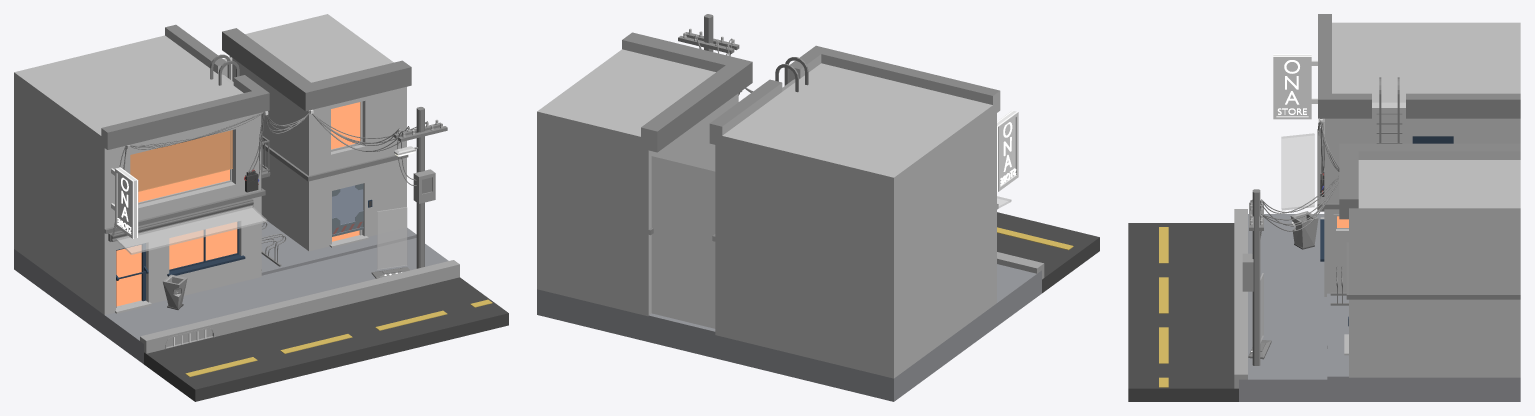
File: alley-v2.glb
The picture shows the model from 3 angles, left to right: view 1: azimuth 30°, elevation 25°; view 2: azimuth 150°, elevation 25°; view 3: azimuth 270°, elevation 25°; orthographic projection. The views are drawn at different scales.
Parts seen in each view (by area): view 1: Shop Top, Floor, Building Top, Shop Bottom, Building, Curb, Cube.020, Cube.040, Cube.012, Cube.025, Cube.037, Storeftront Roof.001 (+5 smaller); view 2: Shop Top, Building Top, Shop Bottom, Floor, Plane, Building, Cube.027, Cube.040, Curb; view 3: Floor, Building Top, Shop Top, Building, Cube.012, Cube.027, Cube.040, Curb, Shop Bottom, Placeholder Lamppost, Cube.031, Cube.035 (+1 smaller).
Part boxes in pixels (x1,y1,x2,y2): Shop Top: (14,24,269,233); Floor: (14,238,508,401); Building Top: (222,14,411,181); Shop Bottom: (14,167,261,314); Building: (261,148,406,251); Curb: (140,260,459,353); Cube.020: (130,130,232,191); Cube.040: (261,217,416,275); Cube.012: (116,206,267,254); Cube.025: (377,207,407,269); Cube.037: (332,183,363,236); Storeftront Roof.001: (108,198,253,241); Shop Top: (709,45,1000,285); Building Top: (537,32,752,235); Shop Bottom: (715,210,996,378); Floor: (537,212,1099,401); Plane: (651,156,715,328); Building: (537,207,651,316); Cube.027: (997,111,1018,191); Cube.040: (537,289,715,334); Curb: (997,252,1044,279); Floor: (1128,214,1520,401); Building Top: (1339,143,1520,299); Shop Top: (1318,14,1520,209); Building: (1344,299,1520,377); Cube.012: (1281,133,1314,210); Cube.027: (1273,55,1311,119); Cube.040: (1327,293,1520,379); Curb: (1234,209,1247,388); Shop Bottom: (1320,209,1348,296); Placeholder Lamppost: (1252,189,1260,365); Cube.031: (1159,227,1168,387); Cube.035: (1290,211,1318,249).
Bounding box in the file's own units: 1600 × 1067 × 1600.
